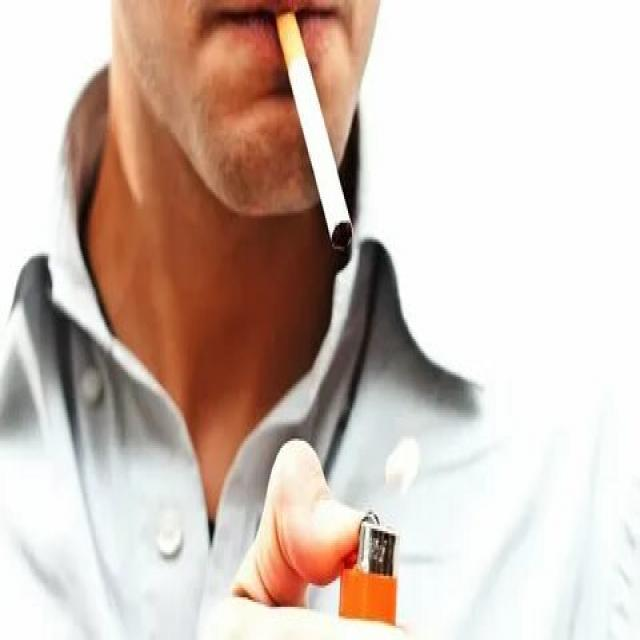smoke: (271, 7, 356, 256)
